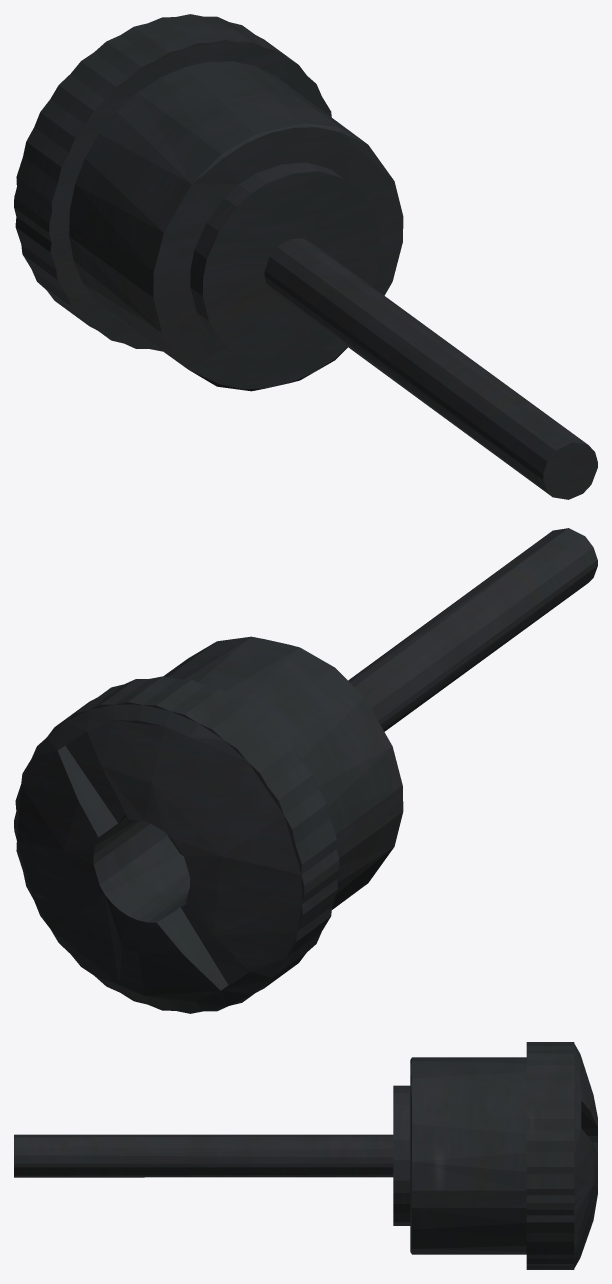
The model's file is Round_Nut1.dae.
3 renders of one model, top to bottom at view 1: azimuth 30°, elevation 25°; view 2: azimuth 150°, elevation 25°; view 3: azimuth 270°, elevation 25°, orthographic. The views are drawn at different scales.
Parts seen in each view (by area): view 1: Round_Nut1; view 2: Round_Nut1; view 3: Round_Nut1.
Boxes of the visible parts, x1=… form: Round_Nut1: x1=14, y1=14, x2=597, y2=499; Round_Nut1: x1=14, y1=528, x2=597, y2=1013; Round_Nut1: x1=14, y1=1042, x2=597, y2=1269.
Bounding box in the file's own units: 0.0179 × 0.0457 × 0.0179.
1 material, 1 textured.
